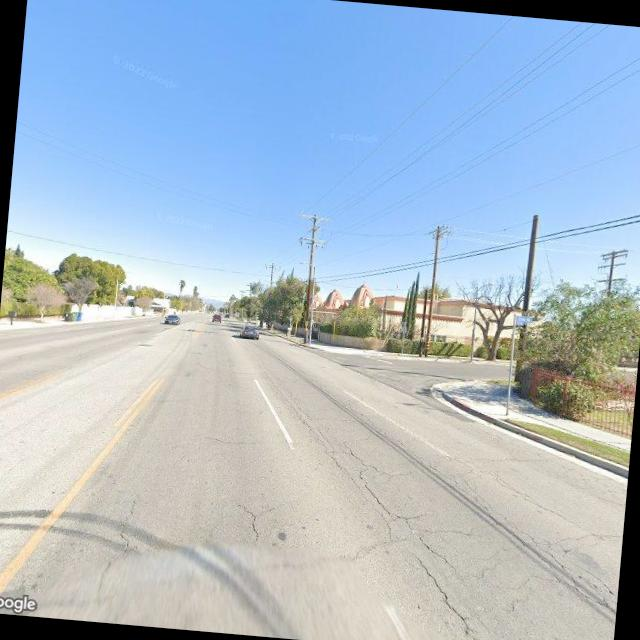pothole: (271, 390, 522, 640), (380, 424, 616, 598)
